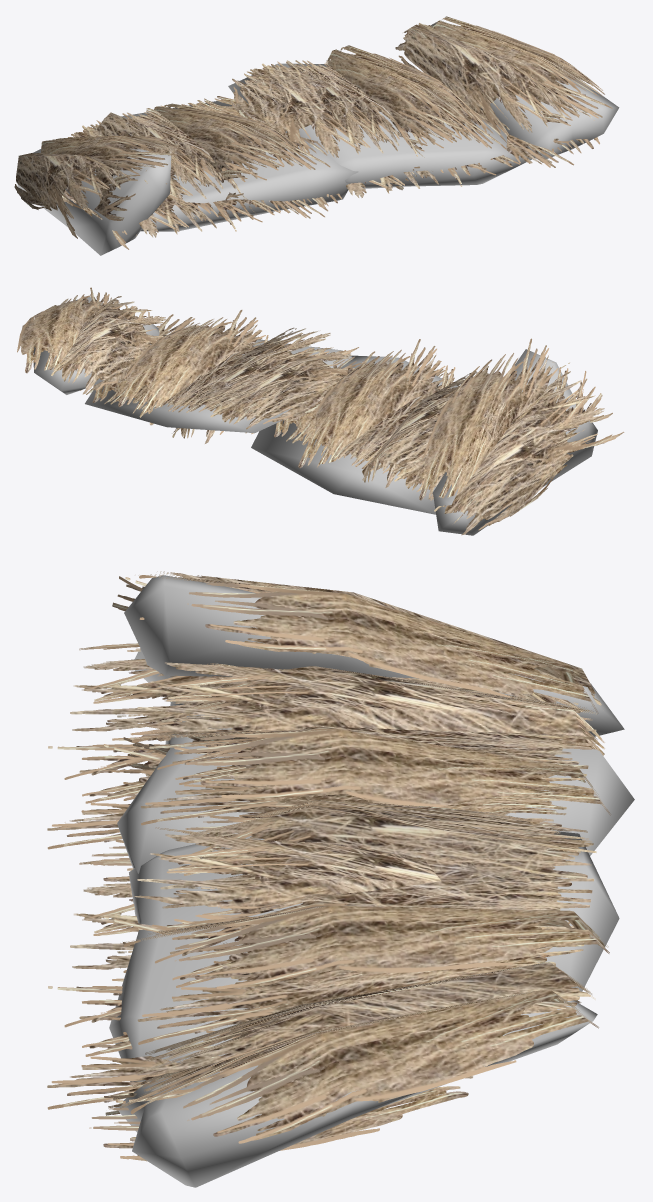
The model's file is jov_rice_rag04.fbx.
3 renders of one model, top to bottom at view 1: azimuth 30°, elevation 25°; view 2: azimuth 150°, elevation 25°; view 3: azimuth 270°, elevation 25°, orthographic. The views are drawn at different scales.
Parts seen in each view (by area): view 1: jov_rice_rag04; view 2: jov_rice_rag04; view 3: jov_rice_rag04.
Part boxes in pixels (x1=…): jov_rice_rag04: x1=14, y1=16, x2=619, y2=255; jov_rice_rag04: x1=17, y1=287, x2=624, y2=535; jov_rice_rag04: x1=47, y1=571, x2=634, y2=1187.
Size of the model in its own units: 253 by 47.9 by 120.
